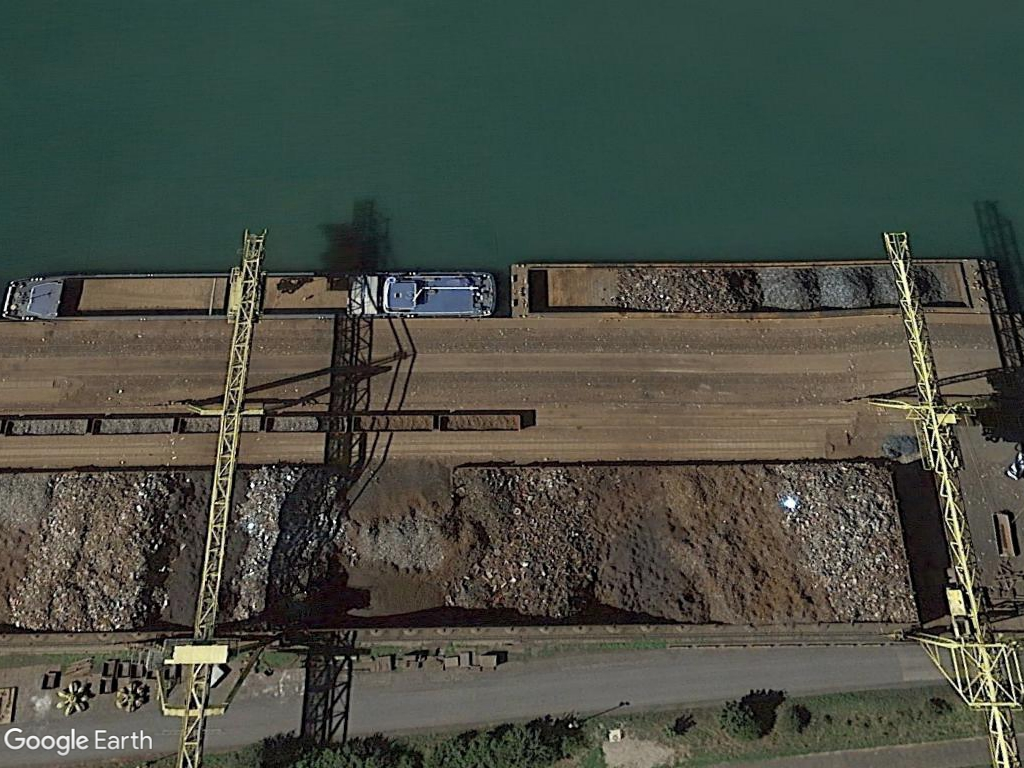boat: (4, 270, 503, 320)
